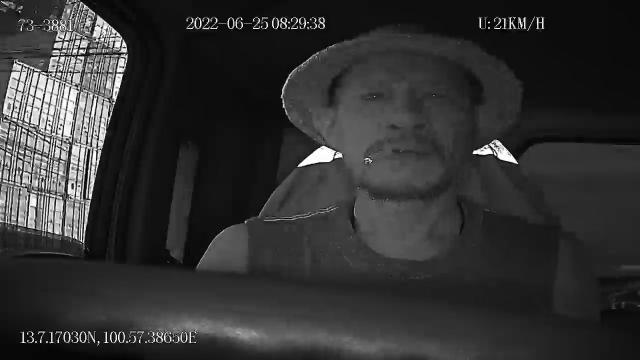SafeDriving: (414, 83, 451, 111)
Smoking: (363, 146, 392, 166)
